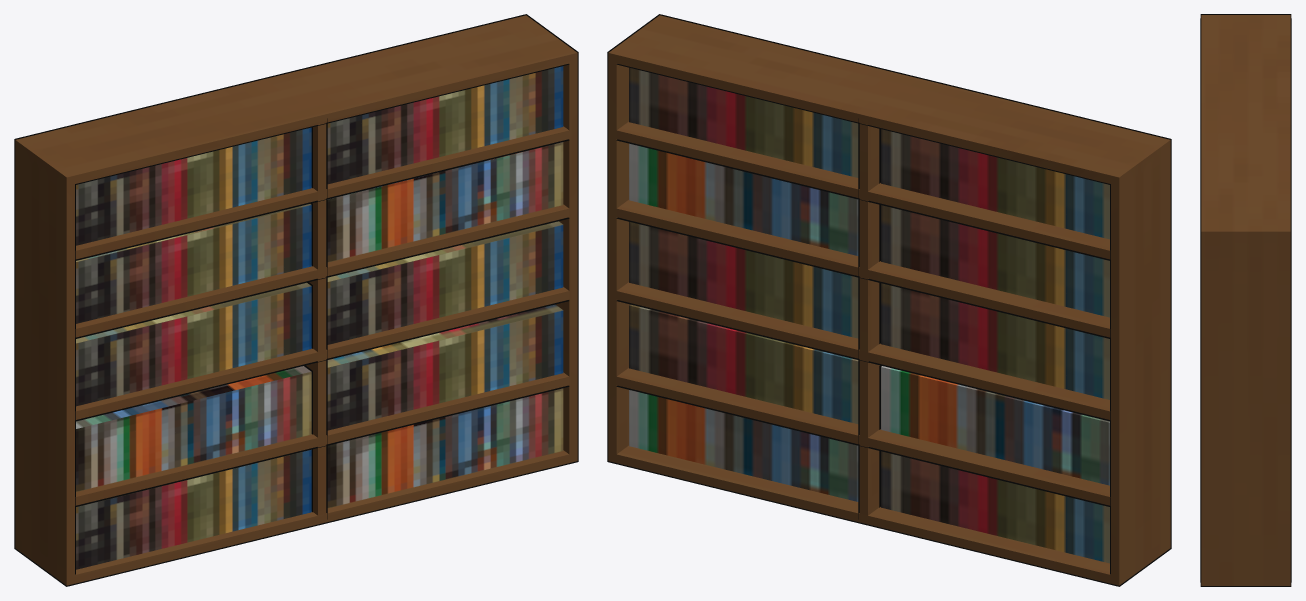
The model's file is Estante.glb.
3 renders of one model, left to right at view 1: azimuth 30°, elevation 25°; view 2: azimuth 150°, elevation 25°; view 3: azimuth 270°, elevation 25°, orthographic. The views are drawn at different scales.
Parts seen in each view (by area): view 1: Estante_001; view 2: Estante_001; view 3: Estante_001.
Part boxes in pixels (x1,y1,x2,y2): Estante_001: [14, 14, 578, 586]; Estante_001: [607, 14, 1171, 586]; Estante_001: [1200, 14, 1291, 586].
Bounding box in the file's own units: 2.96 × 2.27 × 0.5282.
2 materials, 1 textured.
